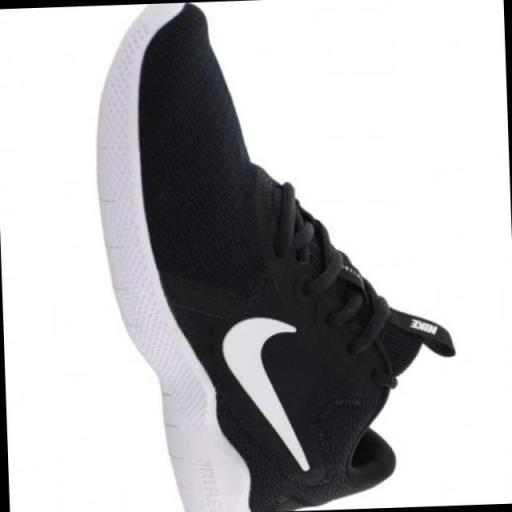Nike: (210, 310, 317, 483)
